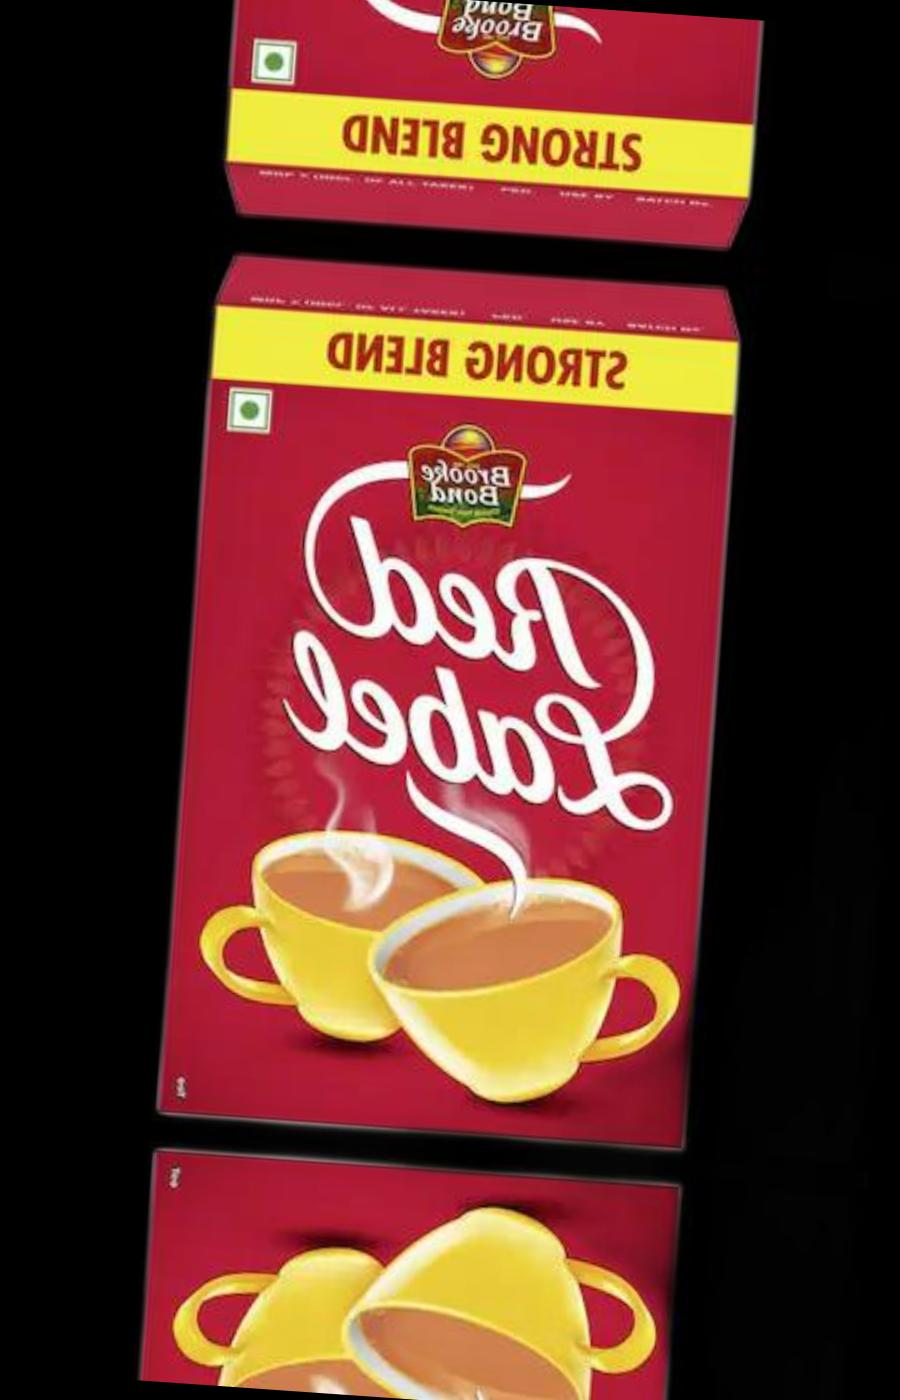Brooke Bond Red Label Leaf Tea 500 g: (149, 244, 758, 1167), (132, 1131, 697, 1400), (213, 0, 777, 259)
